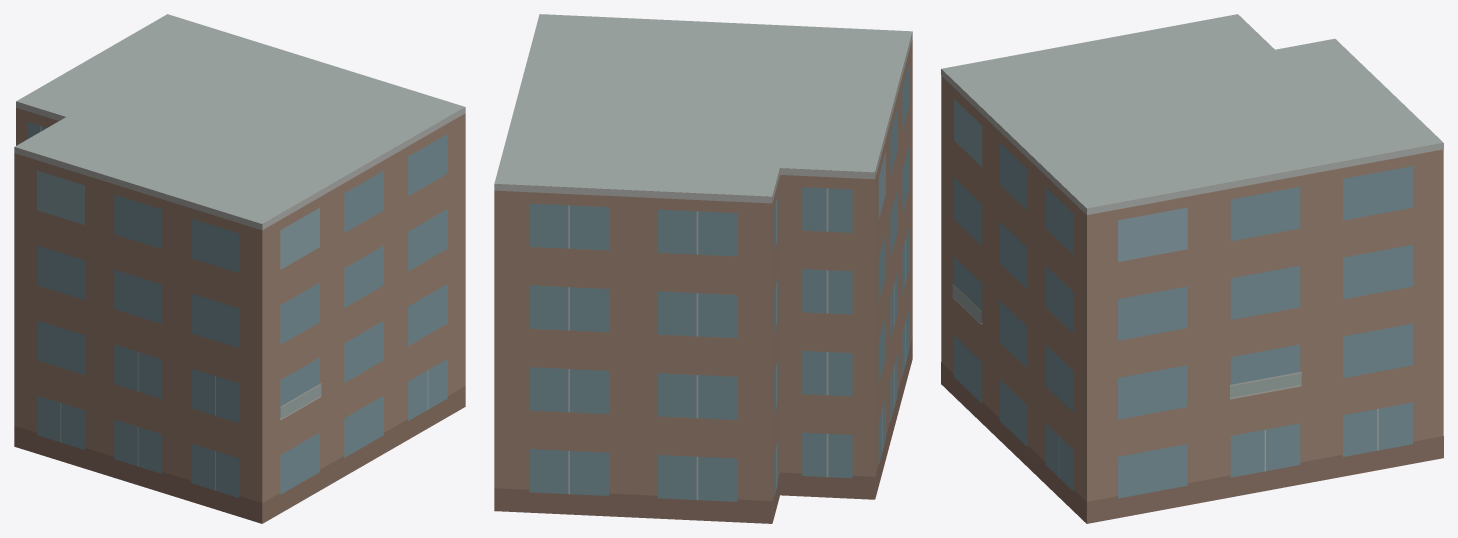
The model's file is survey-upis-32593804.glb.
The picture shows the model from 3 angles, left to right: view 1: azimuth 30°, elevation 25°; view 2: azimuth 150°, elevation 25°; view 3: azimuth 270°, elevation 25°; orthographic projection. The views are drawn at different scales.
Visible parts, largest first — view 1: survey-upis-32593804.tmp; view 2: survey-upis-32593804.tmp; view 3: survey-upis-32593804.tmp.
Boxes of the visible parts, x1=… form: survey-upis-32593804.tmp: x1=14, y1=14, x2=465, y2=523; survey-upis-32593804.tmp: x1=494, y1=14, x2=912, y2=523; survey-upis-32593804.tmp: x1=941, y1=14, x2=1443, y2=523.
Size of the model in its own units: 15.49 by 11.69 by 16.9.
